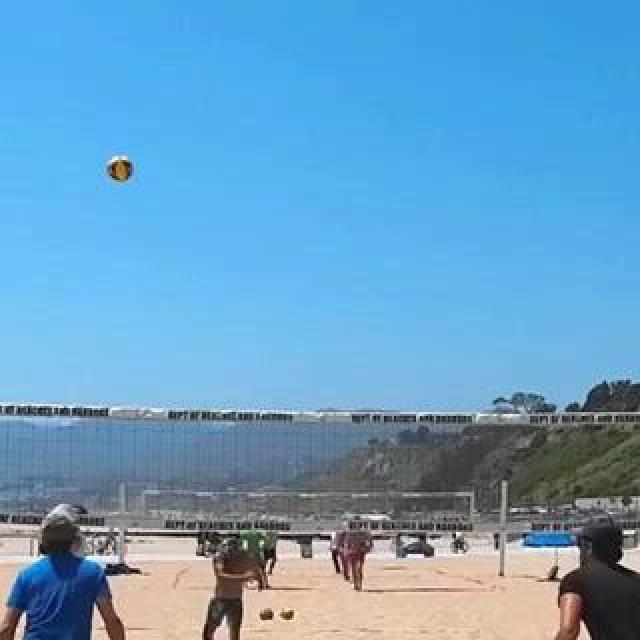volleyball: (107, 156, 135, 184), (279, 607, 295, 621), (260, 608, 274, 622)
